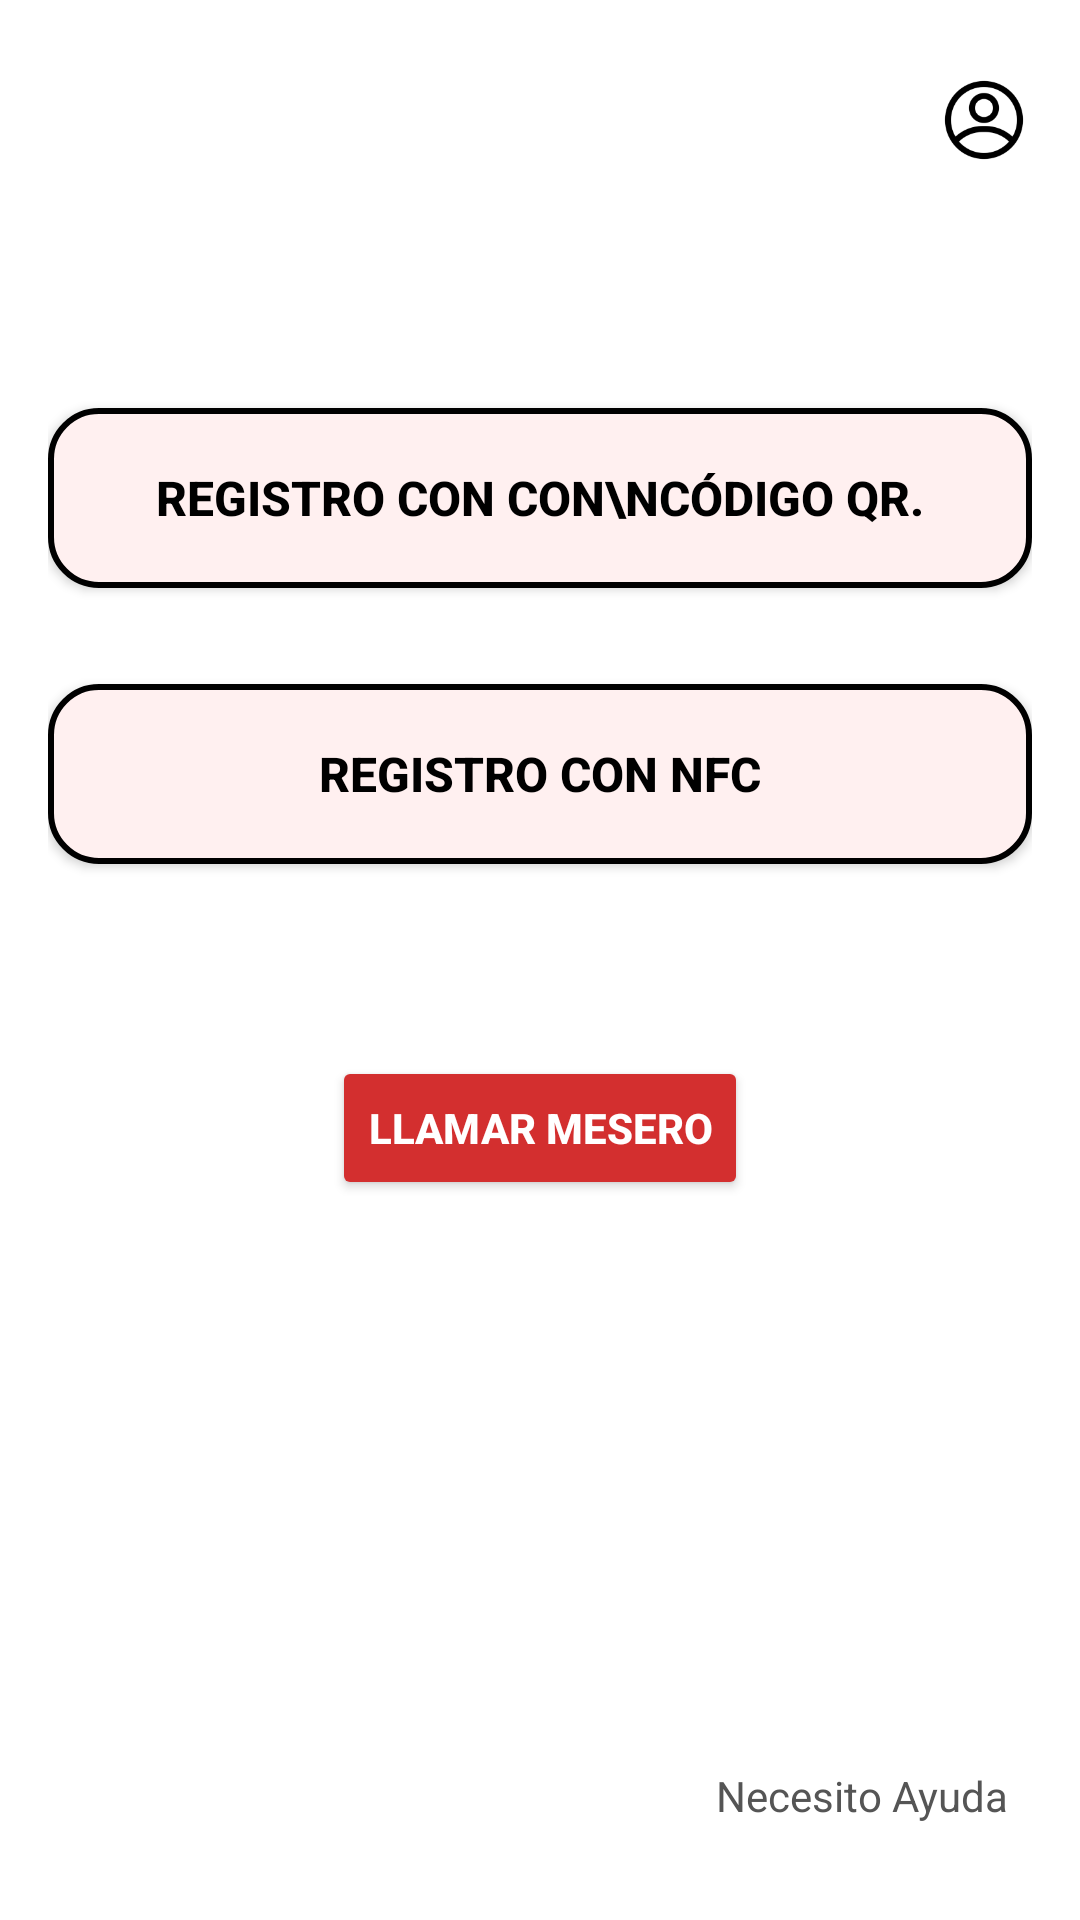

Where icons sit on this 1080x1920 app screen, as (x1, y1, x2, y2):
Perfil: (945, 81, 1023, 159)
